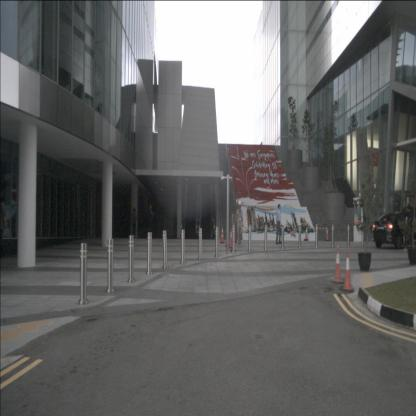cone: (332, 244, 343, 286), (344, 252, 353, 294), (220, 226, 226, 245), (324, 225, 330, 243), (229, 227, 233, 250), (304, 224, 308, 241)
